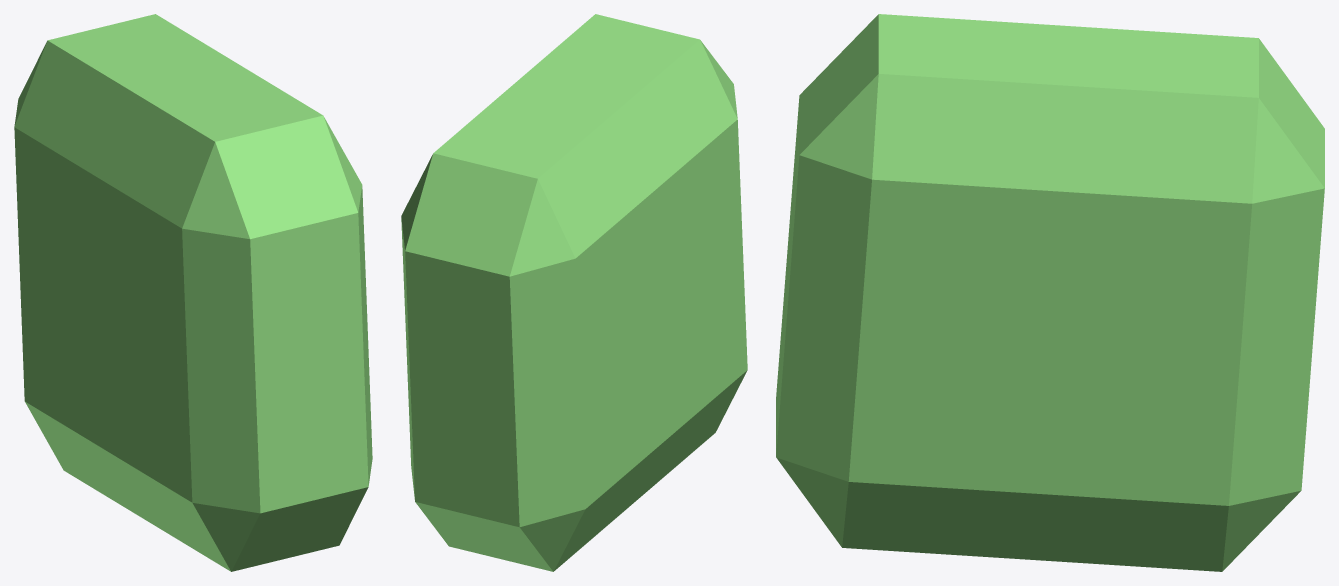
3 renders of one model, left to right at view 1: azimuth 30°, elevation 25°; view 2: azimuth 150°, elevation 25°; view 3: azimuth 270°, elevation 25°, orthographic. The views are drawn at different scales.
Parts seen in each view (by area): view 1: pCube2; view 2: pCube2; view 3: pCube2.
Boxes of the visible parts, x1,y1,x2,y2 form: pCube2: [14, 14, 372, 571]; pCube2: [401, 14, 747, 571]; pCube2: [776, 14, 1324, 571].
Size of the model in its own units: 1.02 by 2.37 by 2.37.
